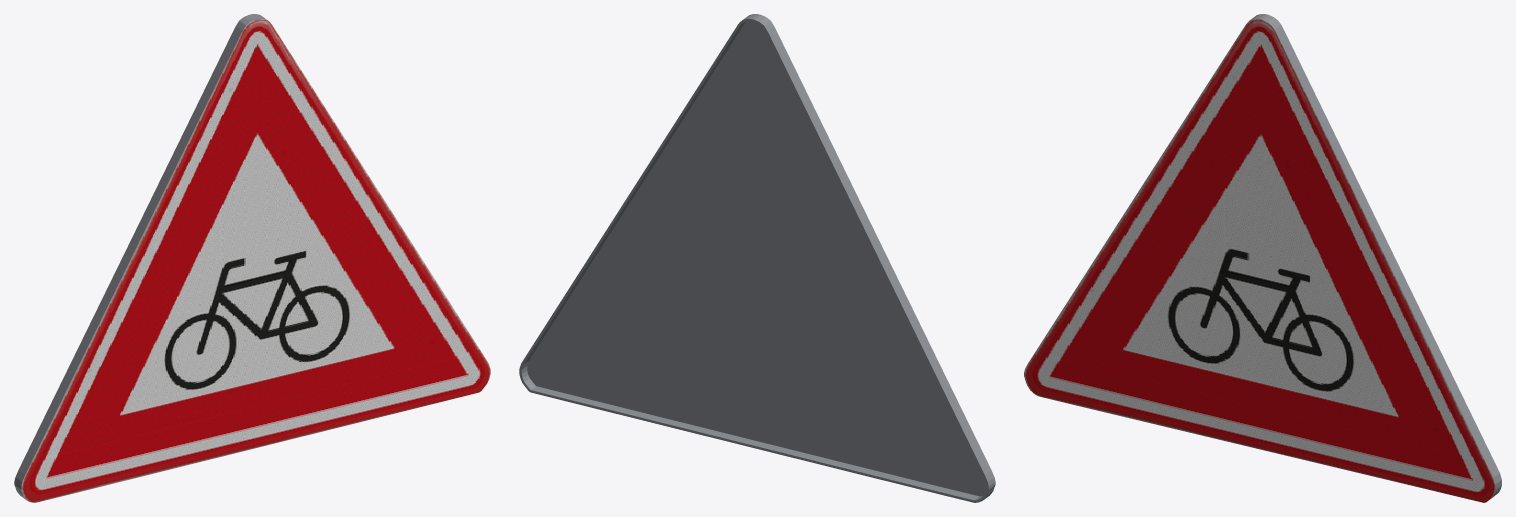
3 renders of one model, left to right at view 1: azimuth 30°, elevation 25°; view 2: azimuth 150°, elevation 25°; view 3: azimuth 330°, elevation 25°, orthographic.
Parts seen in each view (by area): view 1: cat_dcea8a465eaffd4c; view 2: cat_dcea8a465eaffd4c; view 3: cat_dcea8a465eaffd4c.
Boxes of the visible parts, x1,y1,x2,y2 form: cat_dcea8a465eaffd4c: (14,14,490,502); cat_dcea8a465eaffd4c: (519,14,995,502); cat_dcea8a465eaffd4c: (1024,14,1501,502).
Size of the model in its own units: 0.6 by 0.015 by 0.5245.
2 materials, 1 textured.
